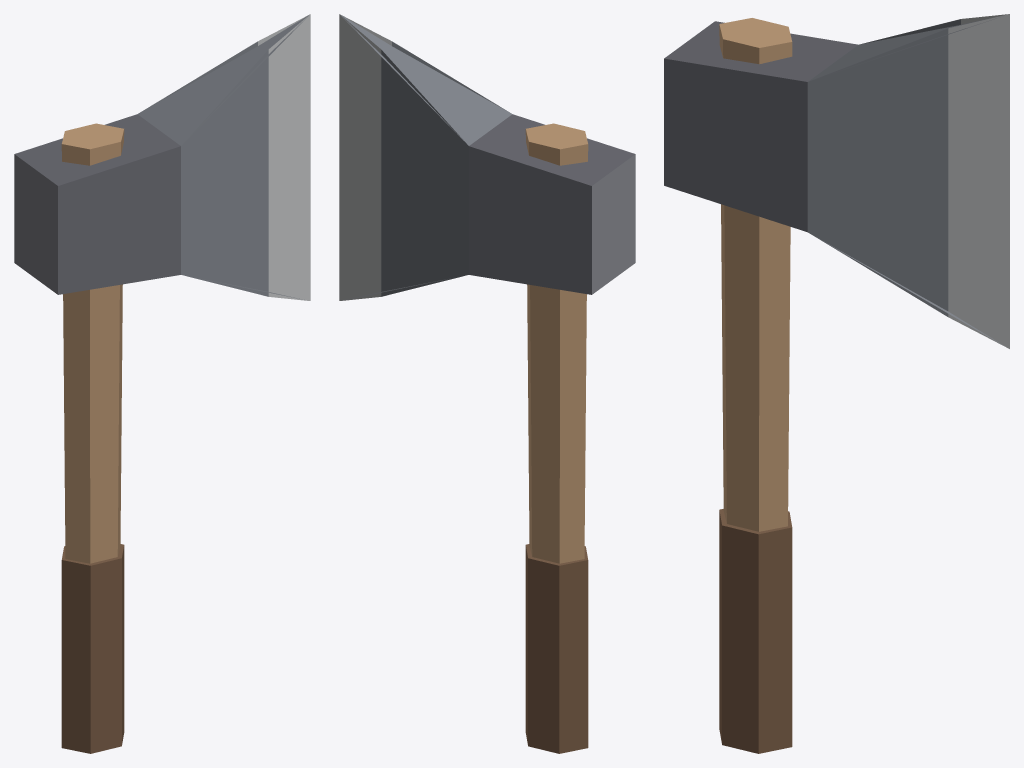
The model's file is axe.glb.
3 renders of one model, left to right at view 1: azimuth 30°, elevation 25°; view 2: azimuth 150°, elevation 25°; view 3: azimuth 330°, elevation 25°, orthographic. The views are drawn at different scales.
Visible parts, largest first — view 1: axe; view 2: axe; view 3: axe.
Boxes of the visible parts, x1,y1,x2,y2 form: axe: (14, 14, 310, 753); axe: (339, 14, 635, 753); axe: (664, 14, 1009, 753).
Size of the model in its own units: 0.58 by 1.36 by 0.16.
